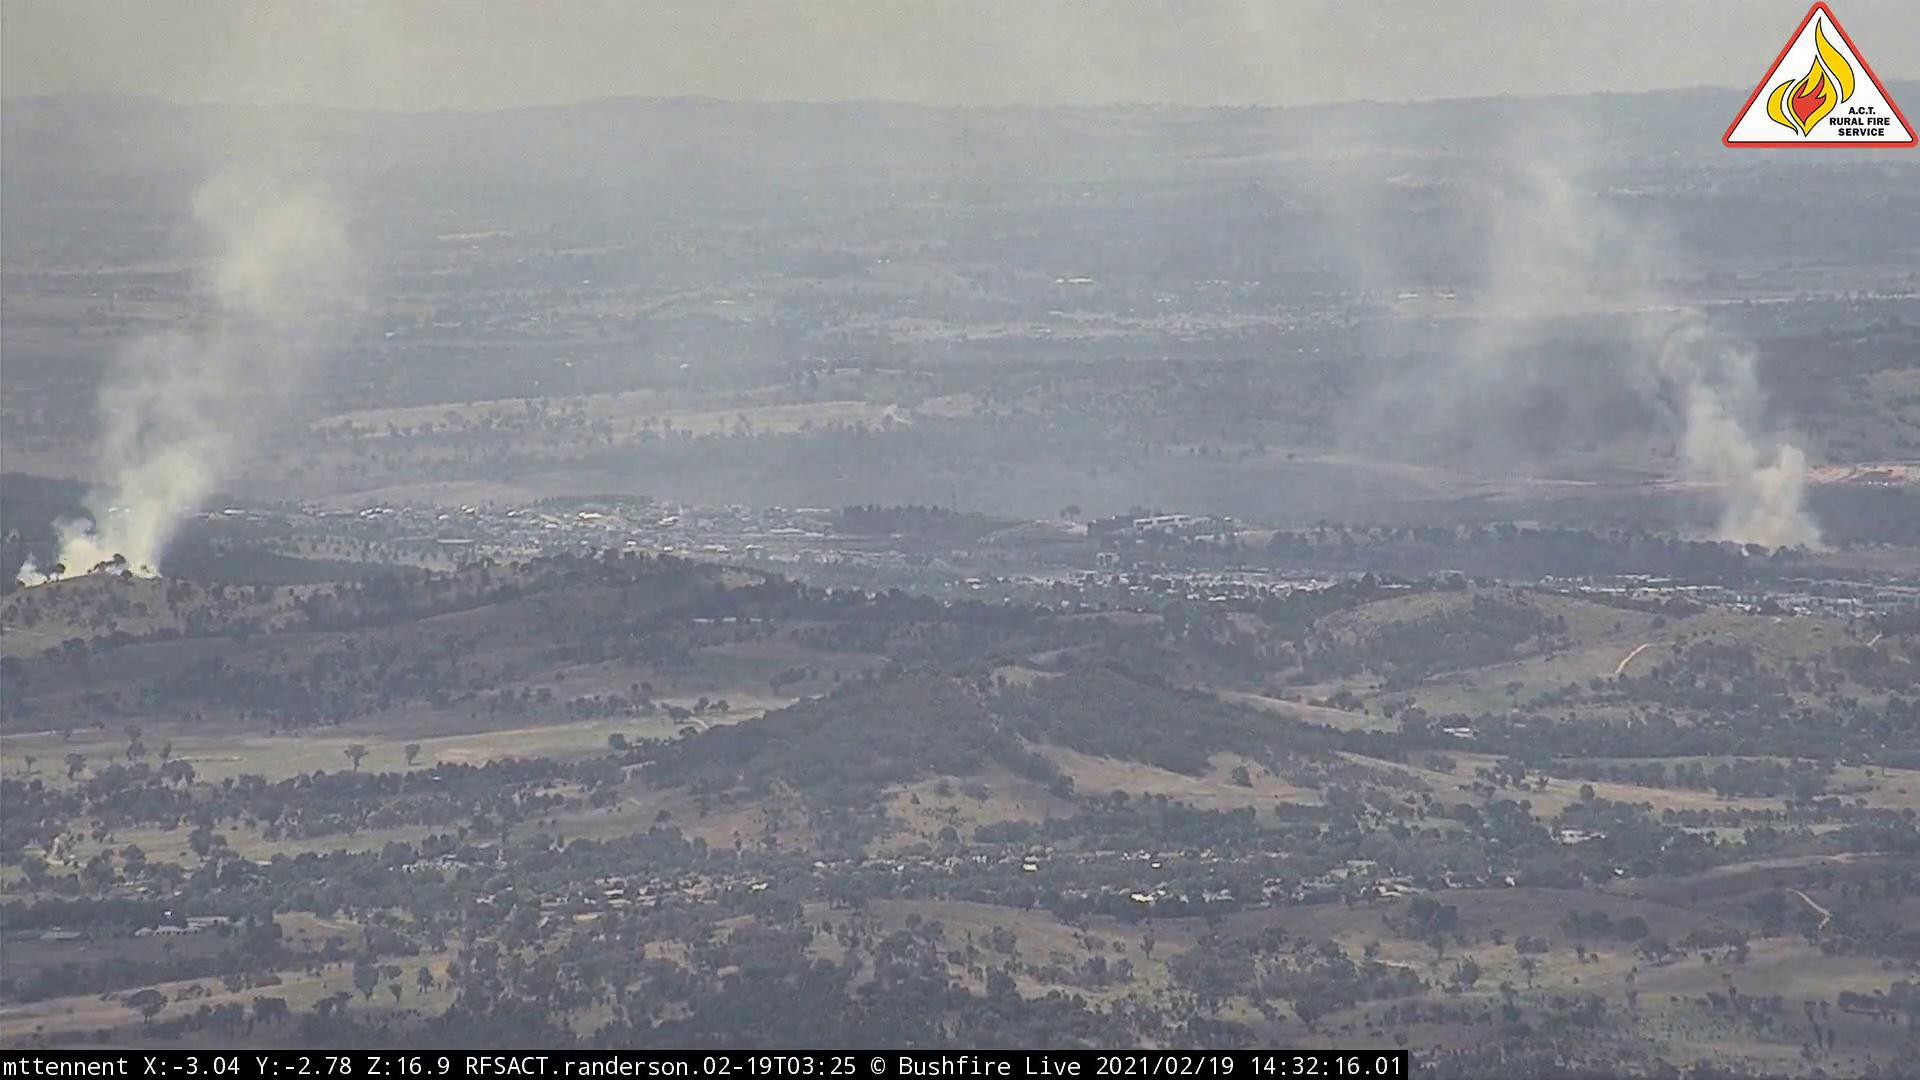Smoke: (1362, 162, 1869, 560), (16, 156, 390, 593)
